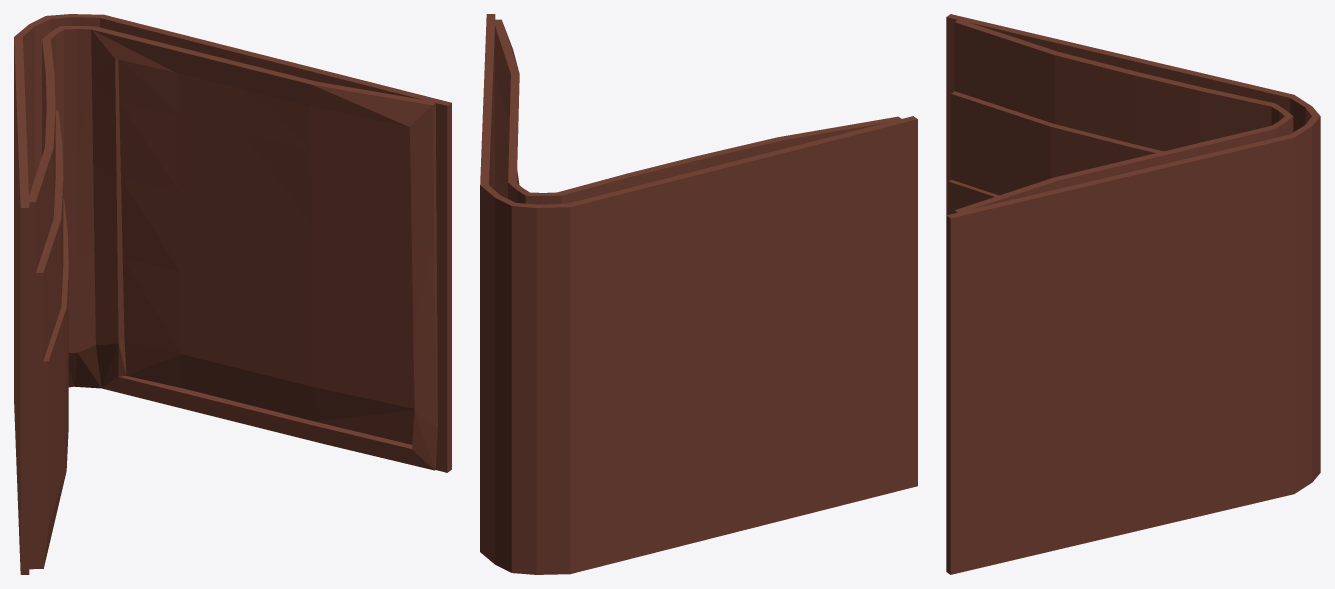
The picture shows the model from 3 angles, left to right: view 1: azimuth 30°, elevation 25°; view 2: azimuth 150°, elevation 25°; view 3: azimuth 270°, elevation 25°; orthographic projection. The views are drawn at different scales.
Parts seen in each view (by area): view 1: Node; view 2: Node; view 3: Node.
Boxes of the visible parts, x1,y1,x2,y2 form: Node: [14, 14, 451, 574]; Node: [480, 14, 917, 574]; Node: [946, 14, 1320, 574].
Size of the model in its own units: 1.23 by 1 by 0.9511.
